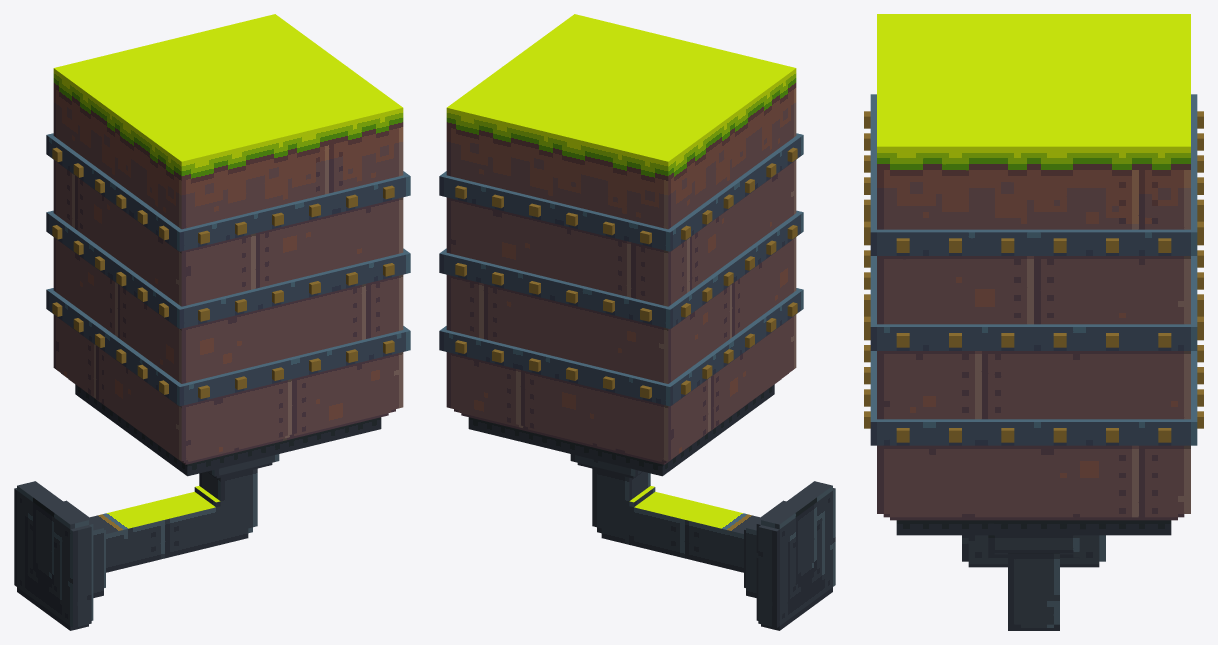
The model's file is village_tankao.fezao.glb.
3 views of the same model, side by side, from view 1: azimuth 30°, elevation 25°; view 2: azimuth 150°, elevation 25°; view 3: azimuth 270°, elevation 25° (orthographic). The views are drawn at different scales.
Visible parts, largest first — view 1: VILLAGE_TANKAO; view 2: VILLAGE_TANKAO; view 3: VILLAGE_TANKAO.
Boxes of the visible parts, bbox=[...] form: VILLAGE_TANKAO: bbox=[14, 14, 410, 630]; VILLAGE_TANKAO: bbox=[439, 14, 835, 630]; VILLAGE_TANKAO: bbox=[864, 14, 1203, 630].
Size of the model in its own units: 4.12 by 6.19 by 3.25.
Materials: 1 (1 with a texture image).
